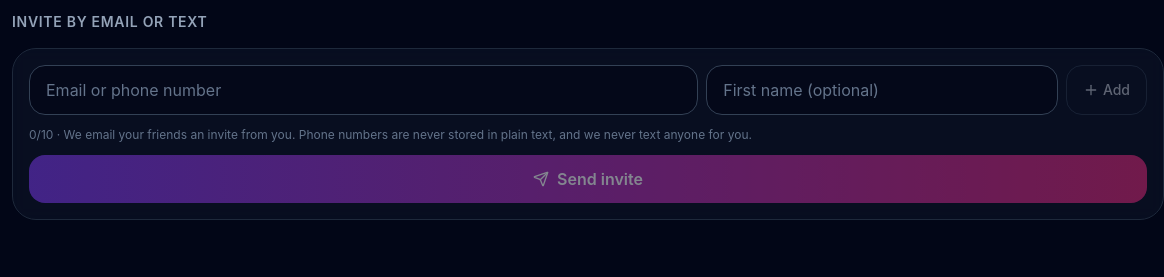
Test: InviteByContactForm › collects chips, validates input and sends emails with per-contact results
Type "nope" into the field labelled "Email or phone number" at (364, 90), box [29,65,698,115]
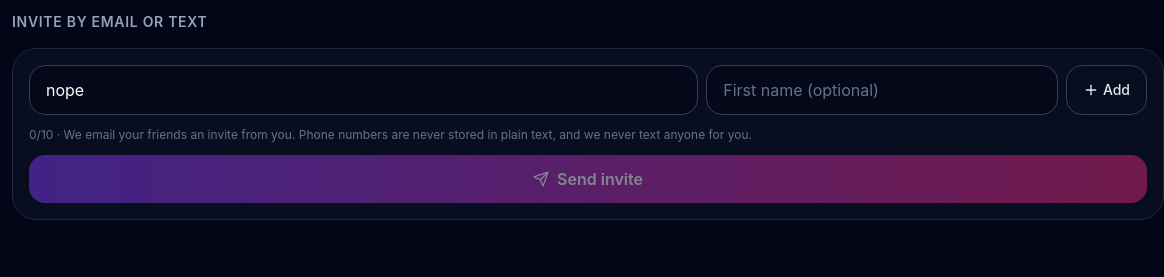
Click the button "Add" at (1106, 90), box [1066,65,1147,115]
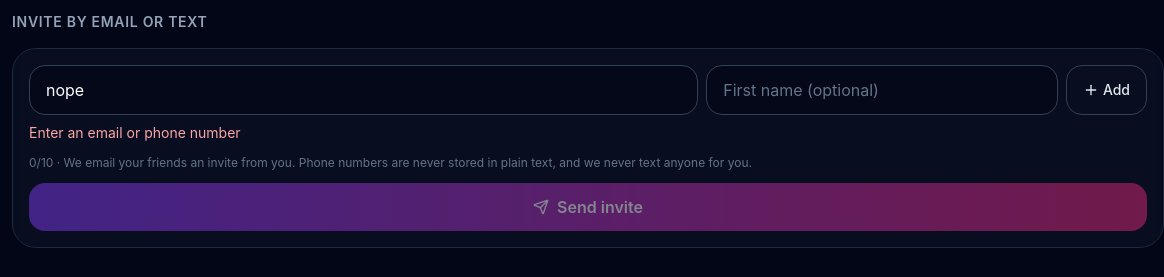
expect the message reads "Enter an email or phone number": met, box [29,124,241,141]
Replace the text in the field named "Email or phone number" with "sam@x.com" at (364, 90), box [29,65,698,115]
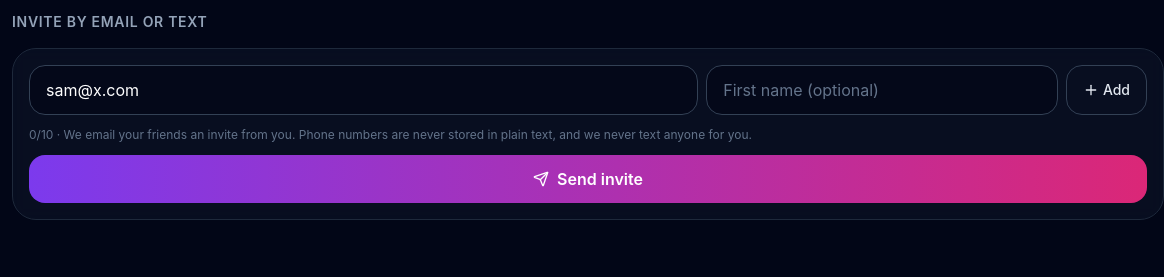
Type "Sam" into the field labelled "First name (optional)" at (882, 90), box [706,65,1058,115]
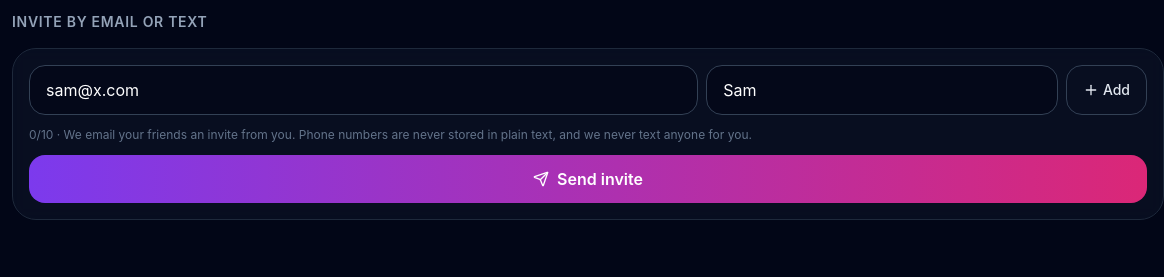
Click the button "Add" at (1106, 90), box [1066,65,1147,115]
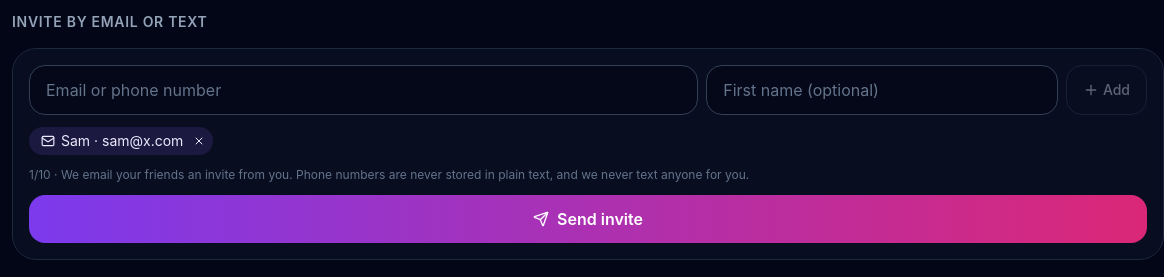
expect the text "Sam · sam@x.com" is shown: met, box [61,131,183,151]
Click the button "Send invite" at (588, 219), box [29,195,1147,243]
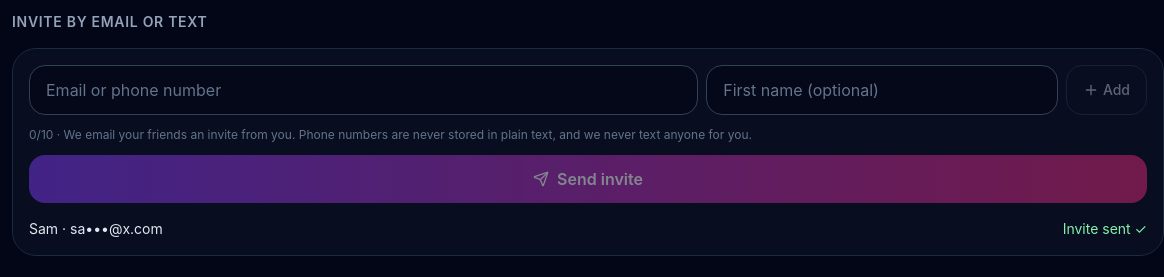
expect the list with test id "invite-results" shows "Invite sent ✓": met, box [1063,220,1147,237]
